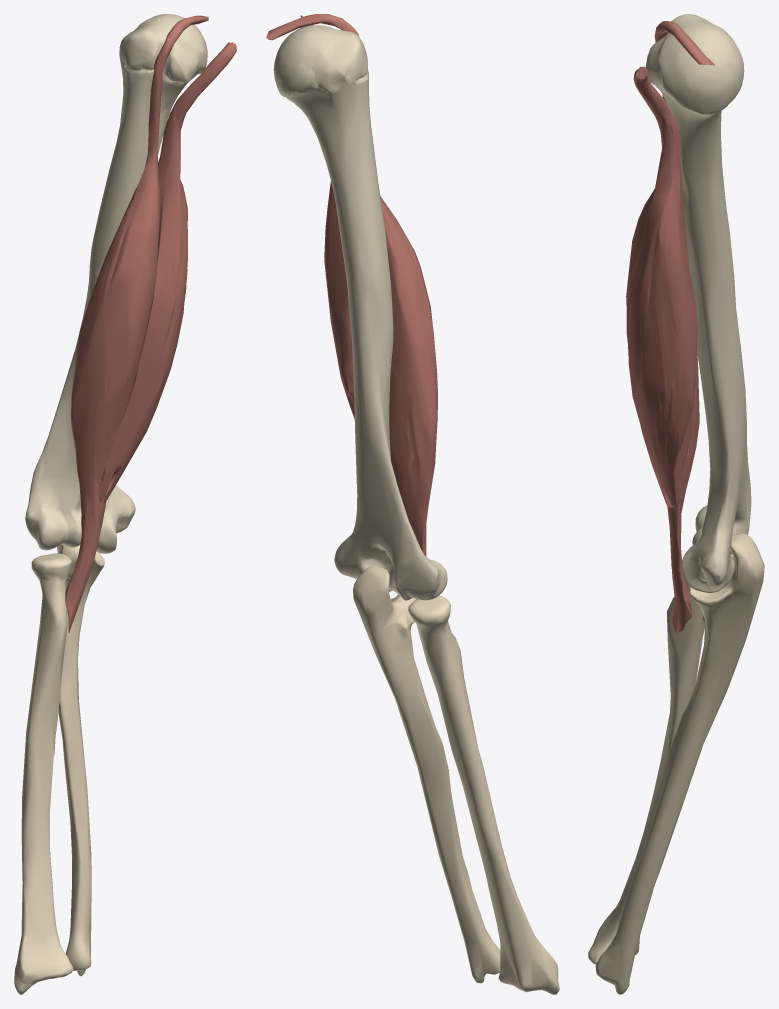
File: arms-right.glb
3 views of the same model, side by side, from view 1: azimuth 30°, elevation 25°; view 2: azimuth 150°, elevation 25°; view 3: azimuth 270°, elevation 25° (orthographic). The views are drawn at different scales.
Visible parts, largest first — view 1: grp1 (×5); view 2: grp1 (×5); view 3: grp1 (×5).
Part boxes in pixels (x1,y1,x2,y2): grp1 (×5): (14, 14, 236, 994); grp1 (×5): (266, 14, 559, 994); grp1 (×5): (588, 14, 764, 994).
Bounding box in the file's own units: 0.7563 × 2.8 × 0.4303.
